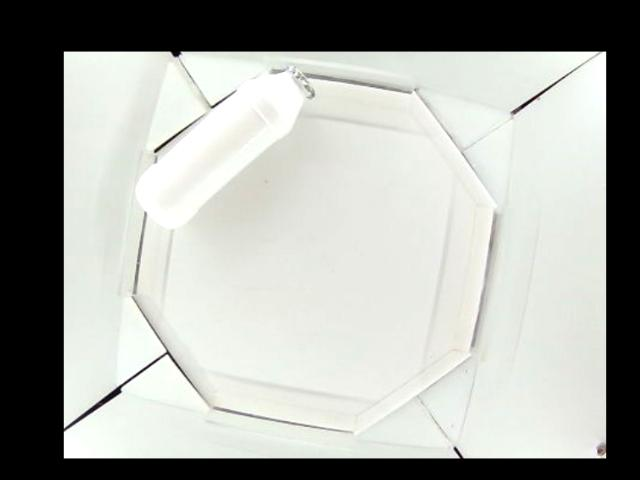Bottle: (135, 65, 318, 234)
